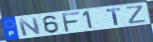1: (81, 10, 95, 30)
6: (42, 14, 60, 34)
F: (61, 11, 82, 33)
N: (17, 17, 42, 37)
T: (106, 7, 122, 26)
Z: (125, 4, 148, 25)
